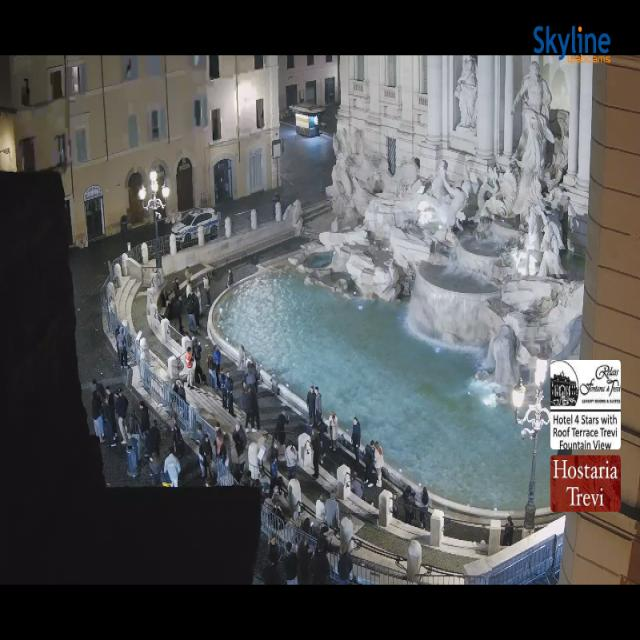person: (104, 388, 142, 461), (311, 490, 339, 554), (254, 460, 287, 514), (312, 490, 339, 555), (316, 491, 339, 554), (197, 422, 223, 474), (128, 402, 151, 458), (309, 515, 339, 555), (98, 384, 121, 432), (264, 440, 283, 497), (215, 423, 231, 484), (124, 409, 143, 459), (196, 353, 221, 390), (126, 410, 144, 461), (124, 411, 143, 459), (315, 388, 327, 463), (150, 275, 171, 316), (298, 519, 311, 585), (311, 540, 330, 584), (316, 520, 339, 555), (230, 445, 250, 485), (197, 425, 212, 478), (92, 379, 105, 438), (232, 446, 251, 484), (115, 389, 128, 444), (220, 371, 237, 412), (232, 448, 250, 485), (317, 525, 339, 555), (107, 293, 122, 337), (241, 383, 255, 430), (262, 553, 283, 584), (106, 386, 117, 445), (196, 424, 208, 478), (183, 346, 198, 389), (115, 322, 132, 359), (172, 378, 187, 419), (102, 400, 115, 447), (164, 453, 181, 488), (174, 379, 188, 421), (283, 542, 297, 584), (338, 543, 352, 584), (109, 297, 122, 341), (92, 391, 103, 442), (110, 299, 123, 341), (194, 340, 206, 384), (145, 420, 160, 455), (365, 440, 377, 483), (401, 485, 414, 524), (364, 440, 375, 485), (172, 420, 185, 458), (232, 423, 246, 458), (116, 330, 128, 370), (147, 456, 163, 486), (372, 440, 383, 483), (325, 497, 339, 530), (303, 518, 323, 541), (149, 453, 163, 485), (239, 468, 260, 489), (249, 386, 259, 430), (159, 457, 173, 488), (106, 386, 116, 429), (185, 346, 195, 389), (276, 412, 289, 445), (250, 479, 267, 504), (226, 369, 235, 416), (286, 444, 298, 479), (247, 357, 259, 392), (248, 357, 260, 392), (175, 296, 186, 334), (188, 291, 199, 328), (159, 457, 172, 488), (352, 418, 360, 468), (312, 429, 320, 478), (307, 386, 315, 435), (268, 476, 285, 499), (174, 295, 184, 334), (216, 429, 227, 464), (265, 440, 279, 467), (168, 285, 181, 314), (160, 290, 172, 321), (250, 357, 260, 394), (140, 400, 150, 437), (420, 488, 429, 529), (318, 422, 327, 463), (321, 489, 337, 512), (244, 359, 256, 389), (240, 383, 250, 419), (375, 442, 383, 487), (251, 479, 266, 503), (329, 412, 338, 451), (208, 355, 218, 390), (241, 469, 259, 488), (502, 517, 514, 545), (351, 471, 363, 498), (192, 289, 200, 329), (92, 379, 106, 401), (184, 268, 195, 296), (274, 502, 285, 530), (307, 386, 315, 424), (257, 480, 270, 503), (219, 372, 227, 409), (188, 295, 196, 332), (270, 453, 278, 490), (316, 495, 326, 524), (267, 439, 279, 463), (214, 345, 221, 385), (174, 379, 186, 402), (268, 537, 279, 562), (315, 386, 322, 424), (164, 299, 175, 323), (163, 280, 175, 302), (203, 275, 211, 307), (239, 368, 251, 389), (178, 380, 188, 404), (292, 504, 303, 525), (316, 496, 326, 519), (184, 268, 194, 291), (192, 338, 201, 363), (196, 288, 202, 325), (391, 497, 401, 518), (238, 345, 246, 371), (240, 470, 251, 487), (158, 290, 167, 310), (197, 275, 208, 291), (213, 420, 223, 437), (302, 518, 311, 535), (150, 276, 159, 291), (173, 278, 179, 299), (212, 420, 219, 438), (173, 378, 180, 394), (184, 268, 191, 283), (208, 269, 215, 284), (205, 477, 214, 488), (186, 282, 192, 298)
